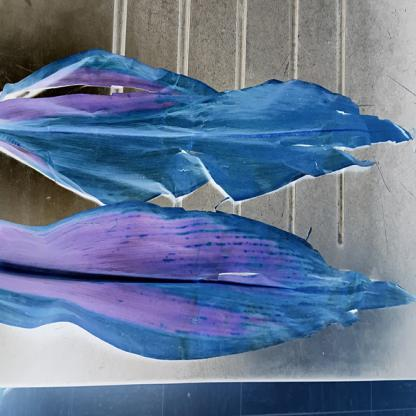corn leaf blight: (0, 195, 416, 365), (0, 42, 413, 204)
